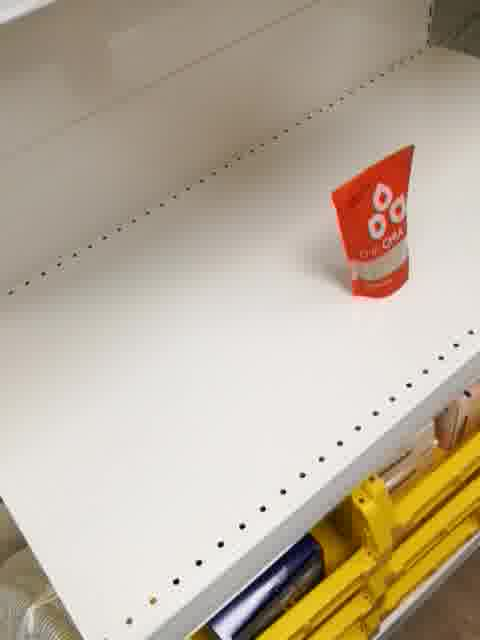whitechia: (328, 143, 417, 299)
